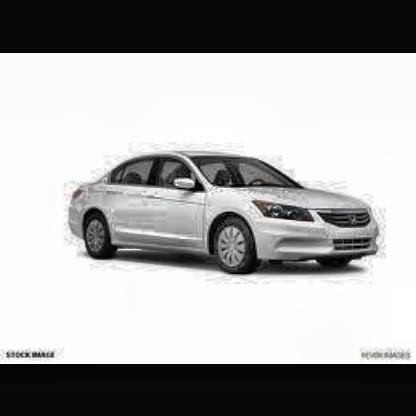Honda Accord Sedan 2012: (73, 154, 381, 274)
